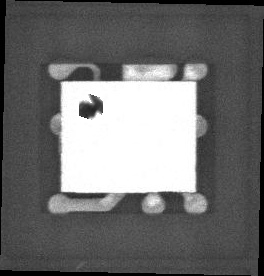DIE_INK: (76, 98, 98, 124)
